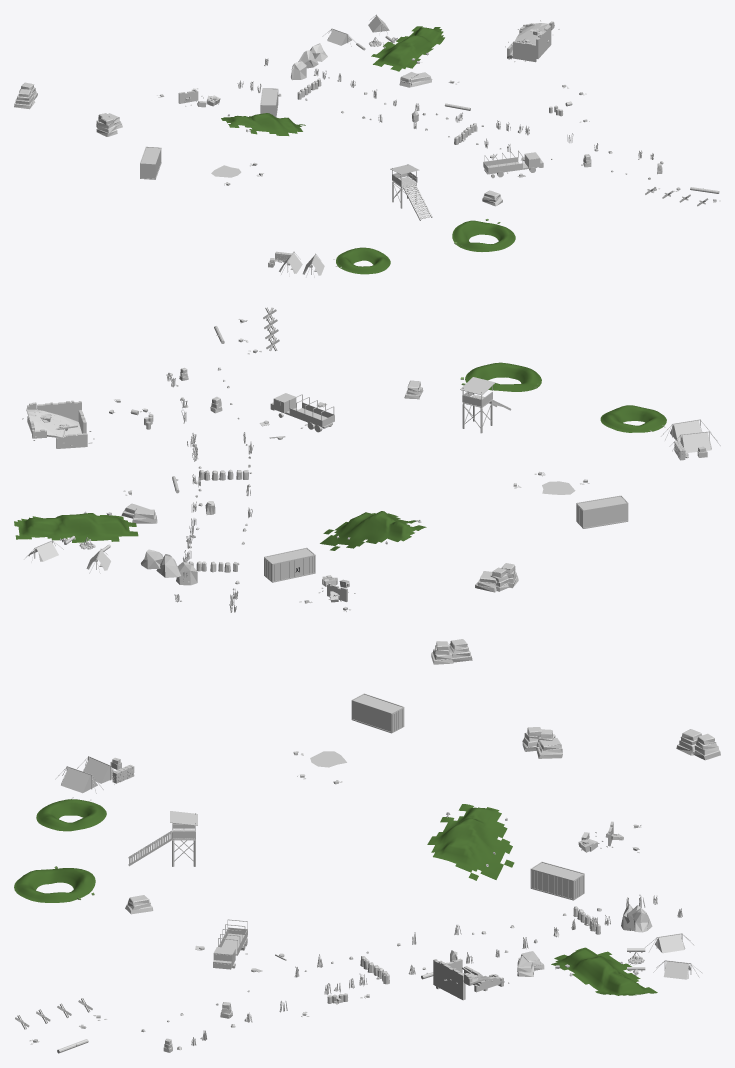
File: outdoor_03.glb
3 views of the same model, one above another, from view 1: azimuth 30°, elevation 25°; view 2: azimuth 150°, elevation 25°; view 3: azimuth 270°, elevation 25° (orthographic). The views are drawn at different scales.
Parts seen in each view (by area): view 1: gas_station_town; view 2: gas_station_town; view 3: gas_station_town.
Part boxes in pixels (<box>): gas_station_town: <box>14,14,720,277</box>; gas_station_town: <box>14,307,720,664</box>; gas_station_town: <box>14,693,720,1053</box>.
Size of the model in its own units: 81.69 by 10.73 by 84.45.
Materials: 3 (2 with a texture image).
